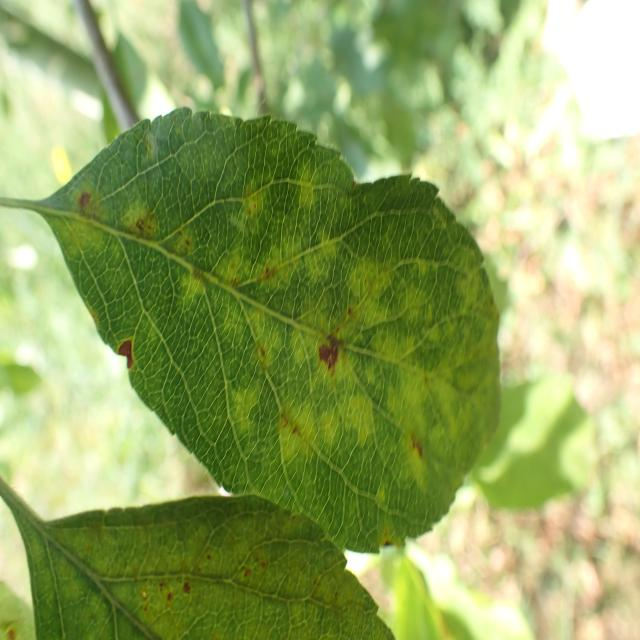scab: (52, 136, 507, 504)
